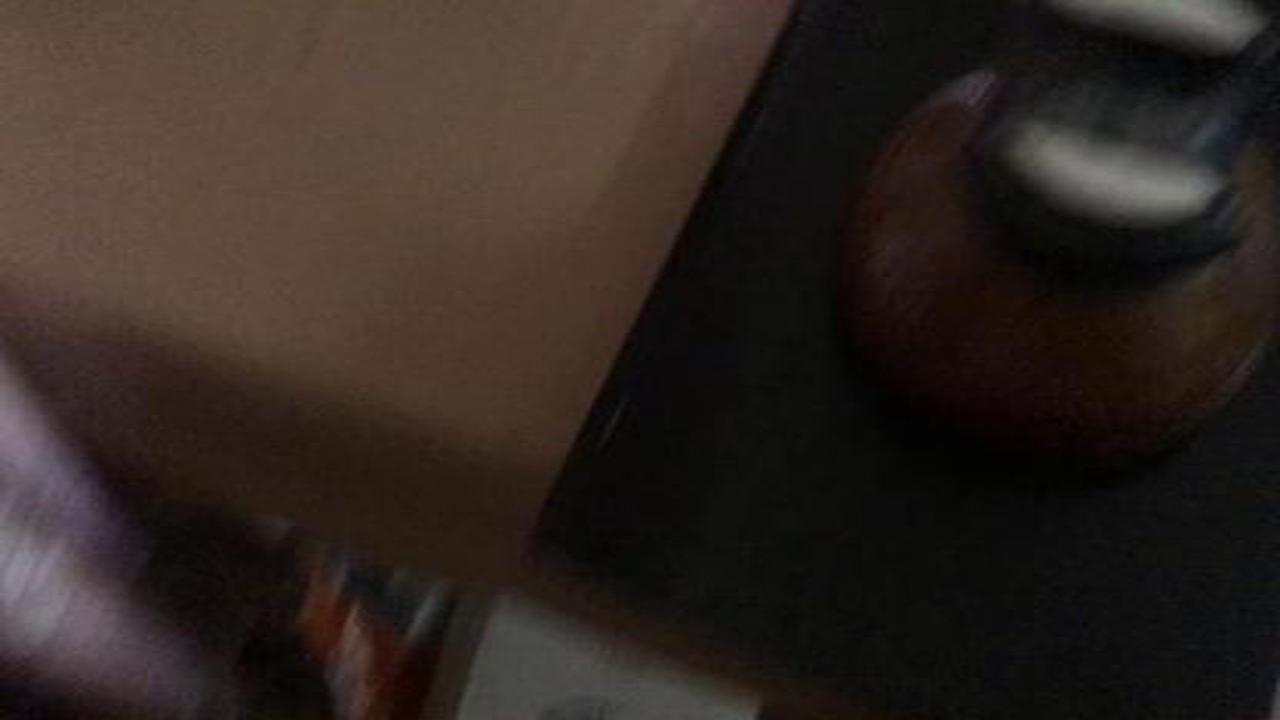insulator_pin: (825, 6, 1280, 475)
